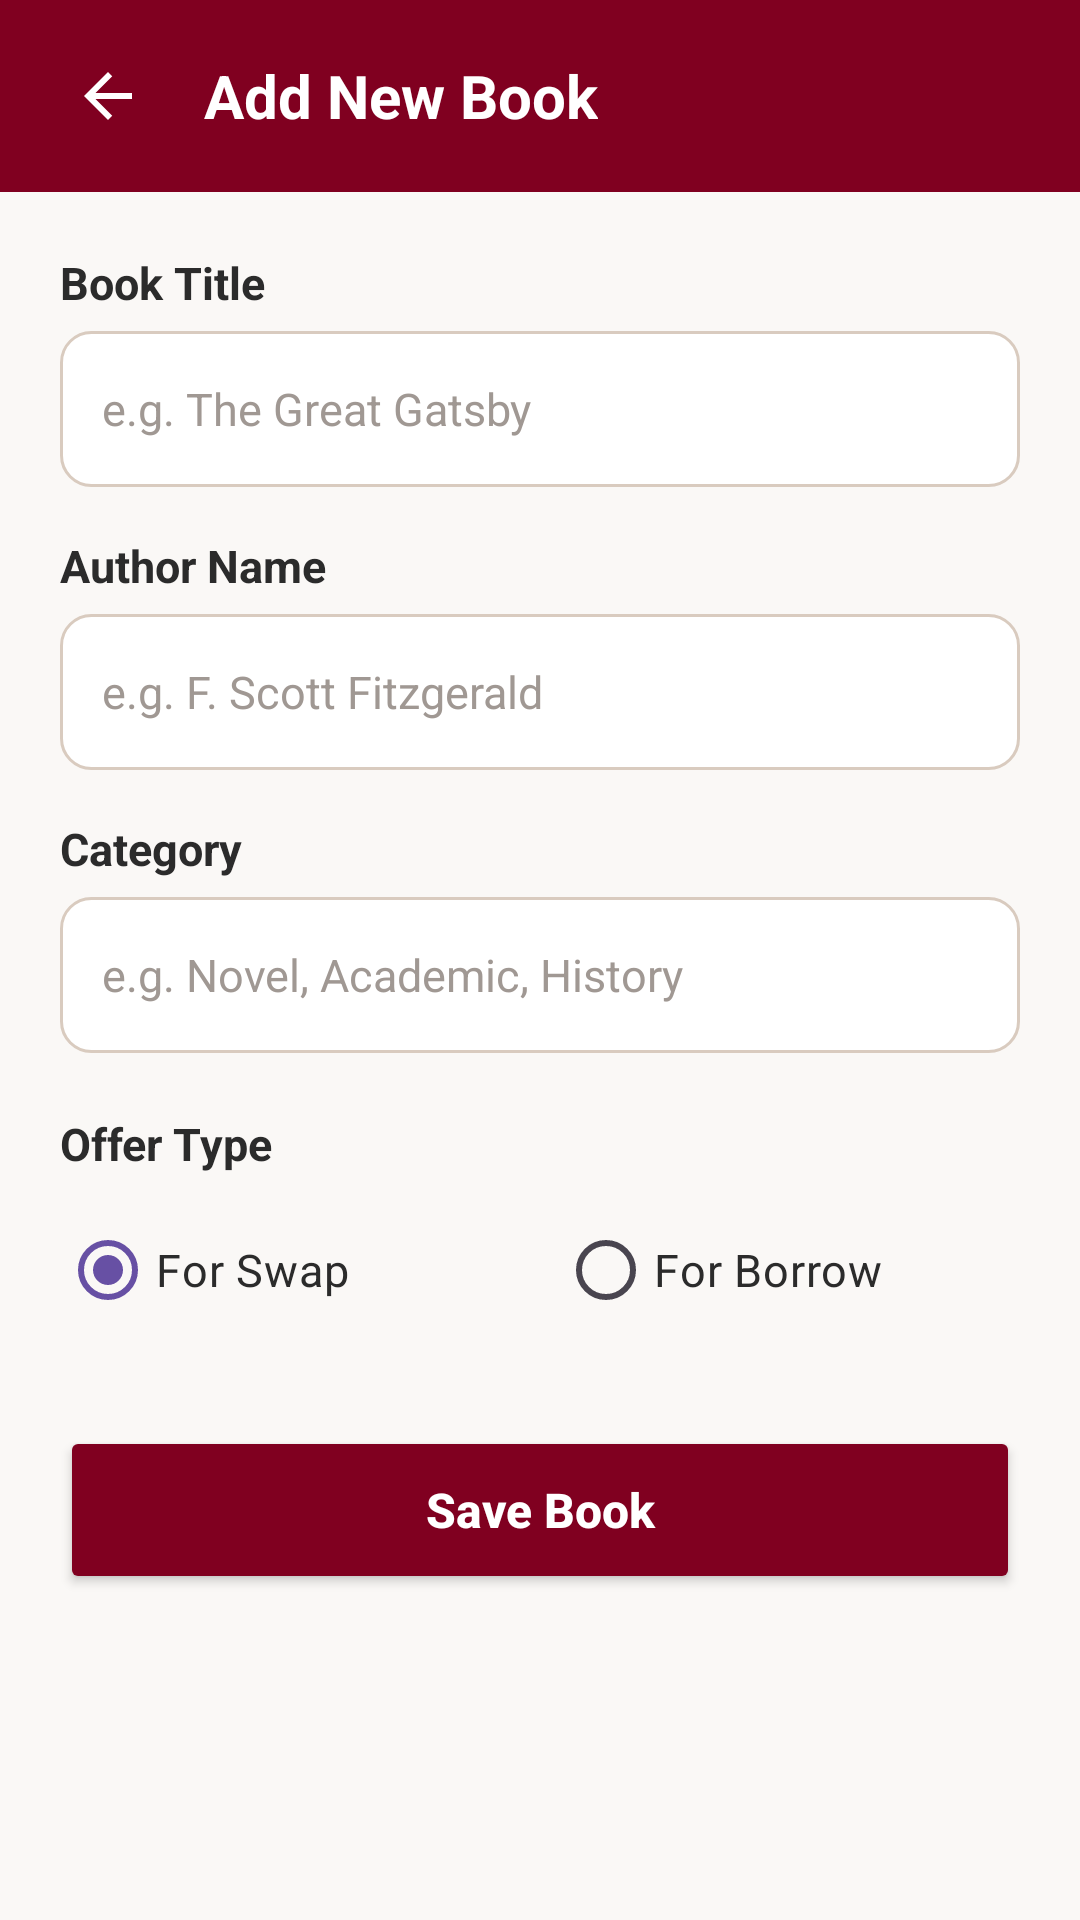

Named icons in this screenshot (1080x1920) and their bounding boxes, (x1, y1, x2, y2):
Back: (84, 72, 132, 120)
